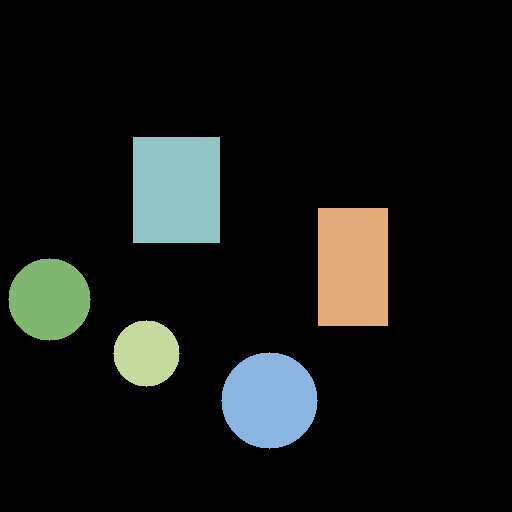circle: (221, 352, 317, 448), (8, 258, 90, 340), (113, 320, 179, 386)
rectangle: (133, 137, 219, 242), (318, 208, 387, 325)
